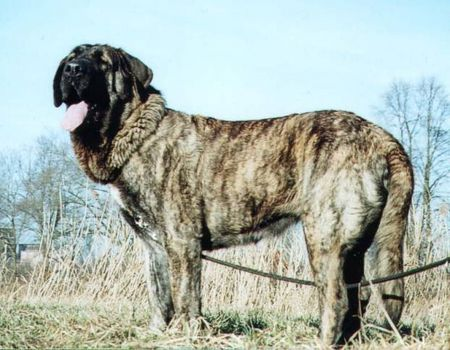mastin_espanol: (52, 43, 414, 350)
